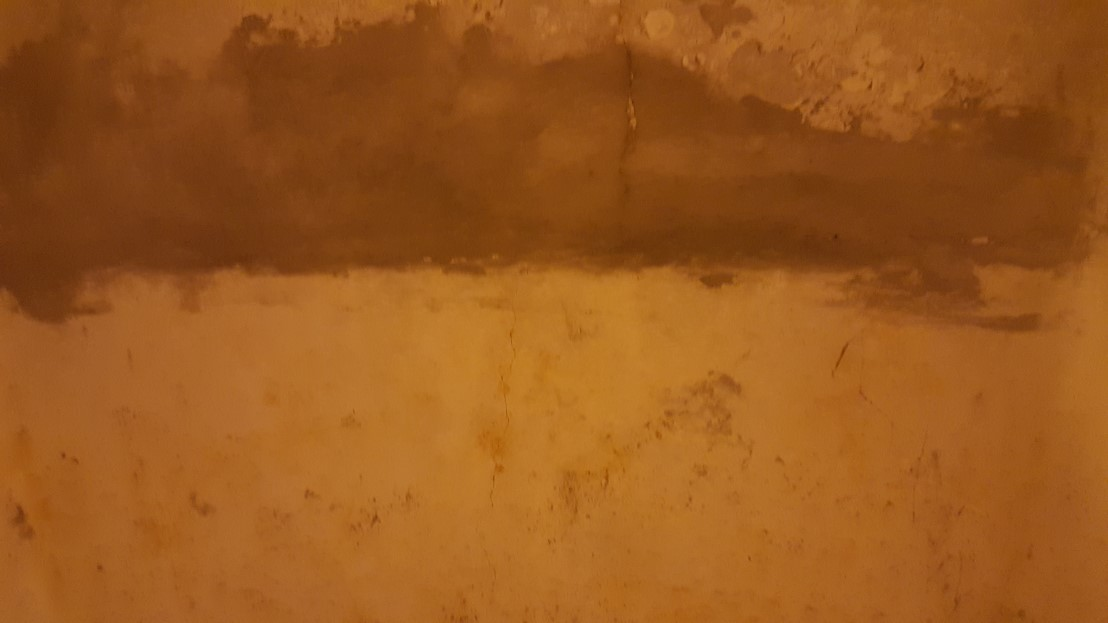Crack: (805, 324, 1001, 623), (460, 265, 534, 623), (598, 0, 682, 278)
